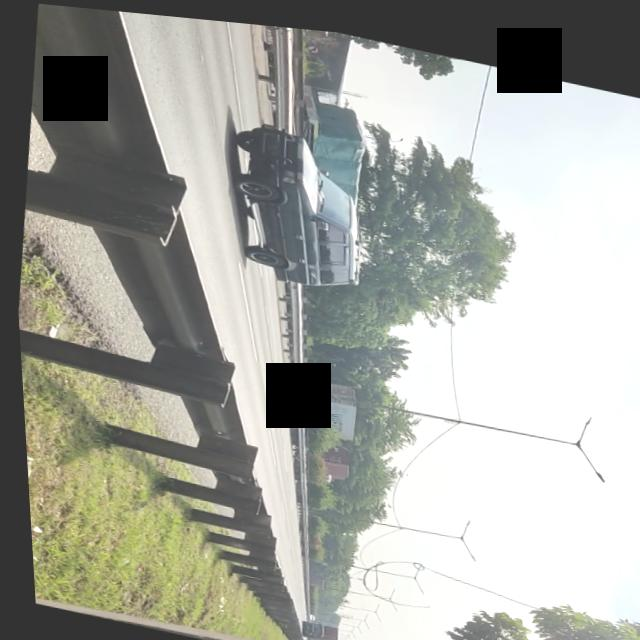Golongan I: (201, 107, 384, 297)
